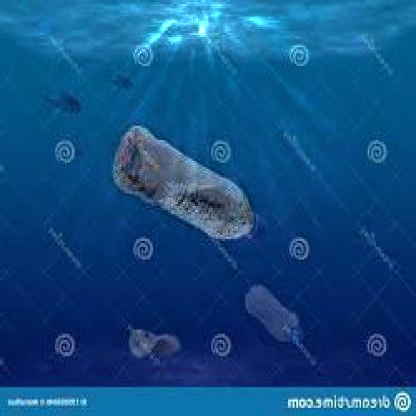pbottle: (105, 122, 273, 245), (238, 276, 309, 360)
